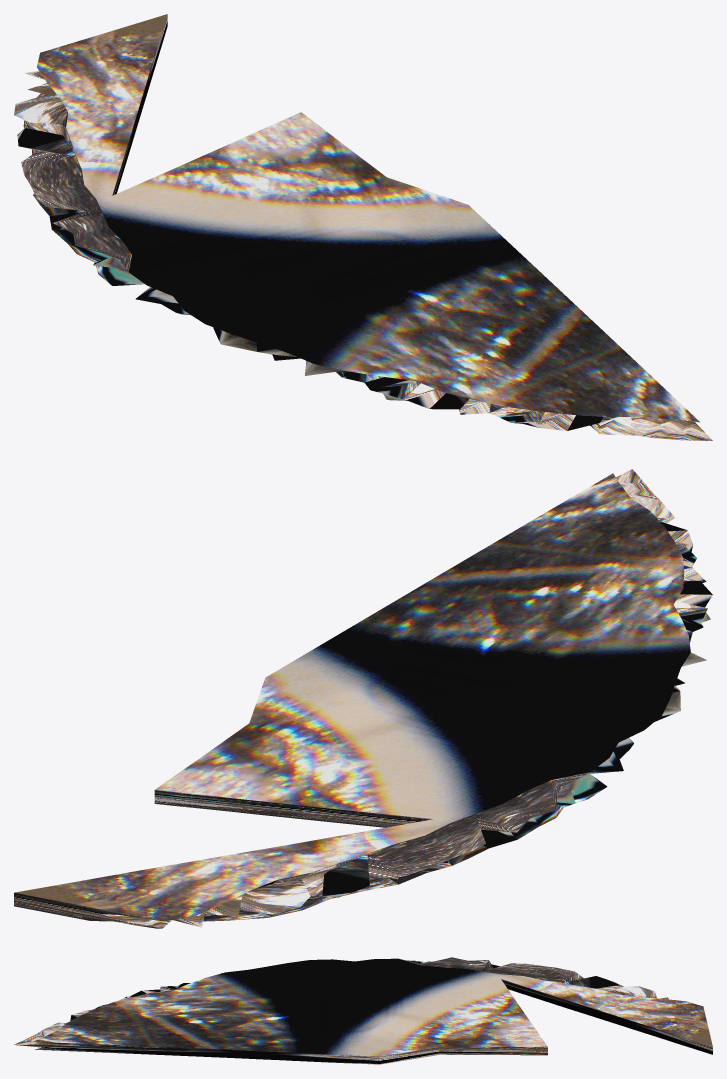
File: cd-broken2.obj
3 views of the same model, one above another, from view 1: azimuth 30°, elevation 25°; view 2: azimuth 150°, elevation 25°; view 3: azimuth 270°, elevation 25° (orthographic). The views are drawn at different scales.
Parts seen in each view (by area): view 1: Cylinder.002; view 2: Cylinder.002; view 3: Cylinder.002.
Boxes of the visible parts, bbox=[...] form: Cylinder.002: bbox=[14, 14, 712, 440]; Cylinder.002: bbox=[14, 469, 712, 928]; Cylinder.002: bbox=[14, 957, 712, 1064].
Size of the model in its own units: 0.55 by 0.021 by 1.58.
Materials: 1 (1 with a texture image).
